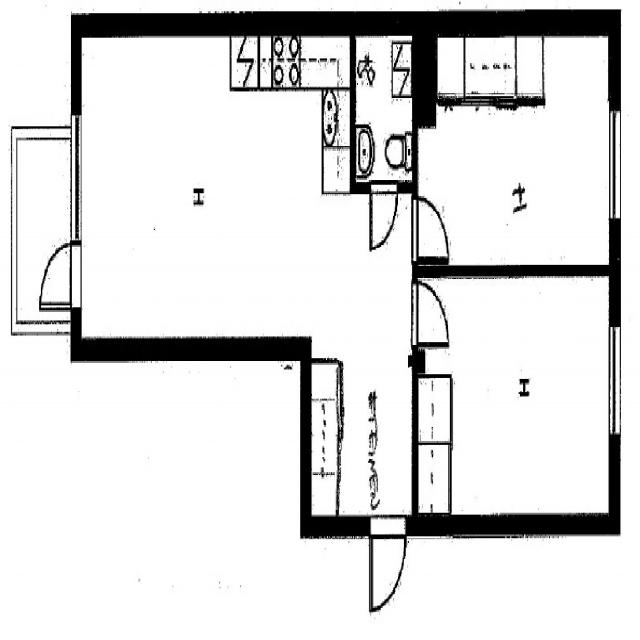door: (370, 514, 406, 612), (40, 243, 81, 307), (412, 281, 448, 346), (412, 197, 448, 262), (370, 182, 397, 248)
